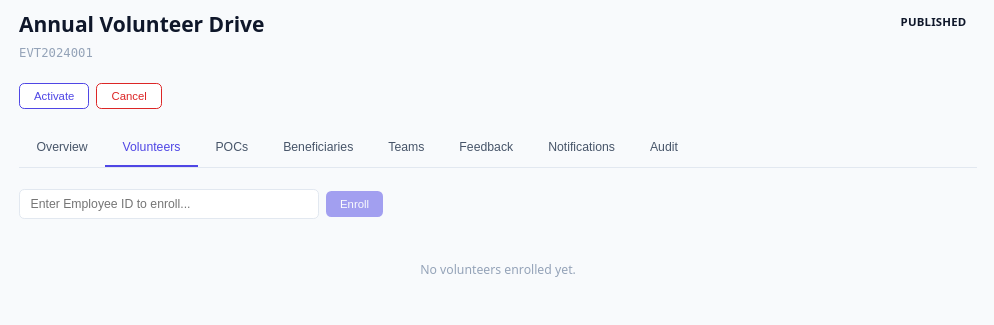
it: Volunteer Enrollment Error Handling › shows capacity error when event is full
Type "EMP002" into the field labelled "Employee ID to enroll" at (169, 204), box [19,189,319,219]
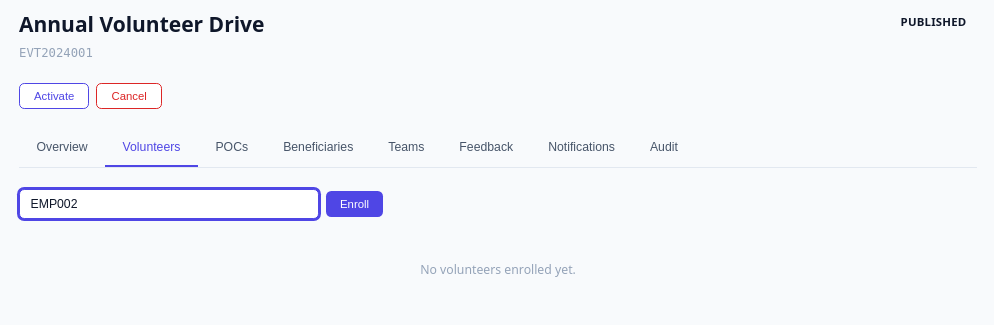
Click the button "Enroll" at (354, 204), box [326,191,383,217]
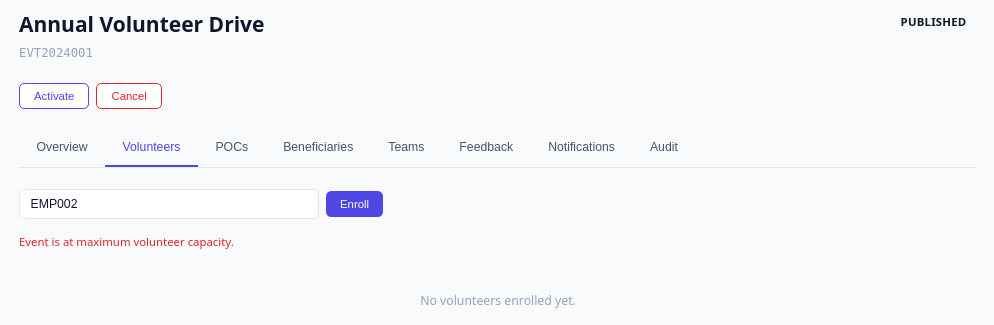
Expected: the text "Event is at maximum volunteer capacity." is shown, [19,234,234,249]
